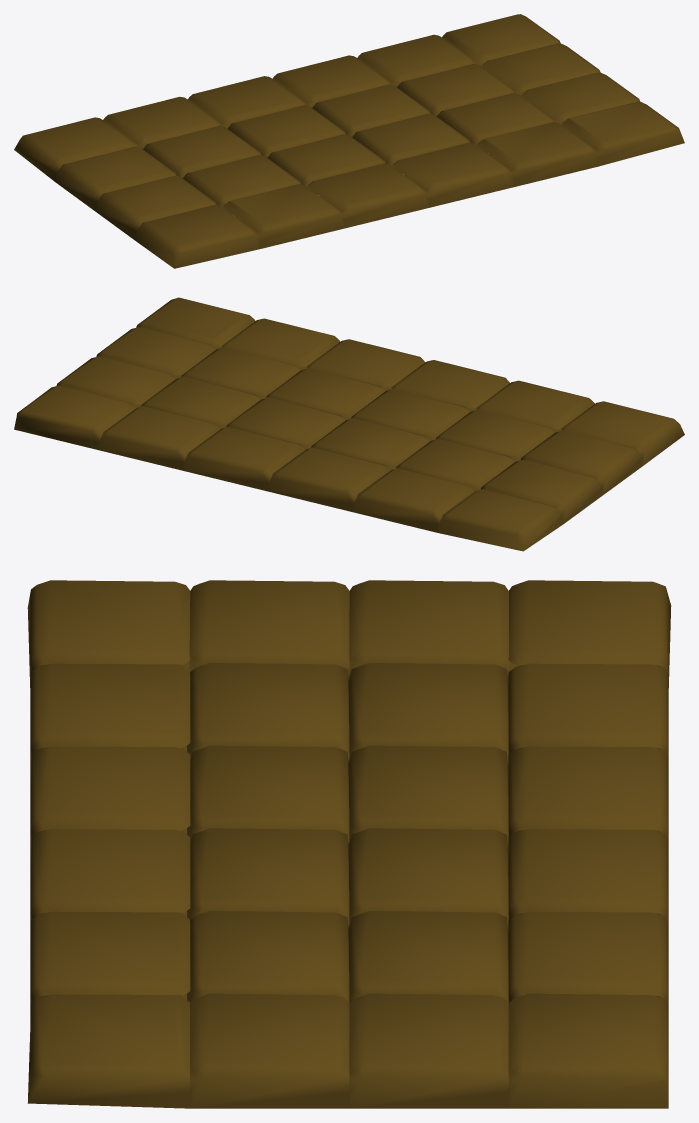
File: Chocolate.fbx
3 views of the same model, one above another, from view 1: azimuth 30°, elevation 25°; view 2: azimuth 150°, elevation 25°; view 3: azimuth 270°, elevation 25° (orthographic). The views are drawn at different scales.
Parts seen in each view (by area): view 1: pCube25; view 2: pCube25; view 3: pCube25.
Boxes of the visible parts, x1,y1,x2,y2 form: pCube25: (14,14,684,268); pCube25: (14,297,684,551); pCube25: (27,580,671,1108).
Size of the model in its own units: 43.92 by 1.62 by 23.97.
